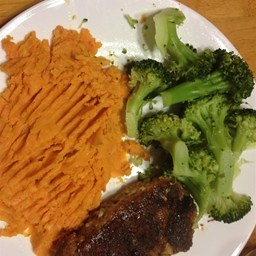background: (0, 2, 102, 102)
